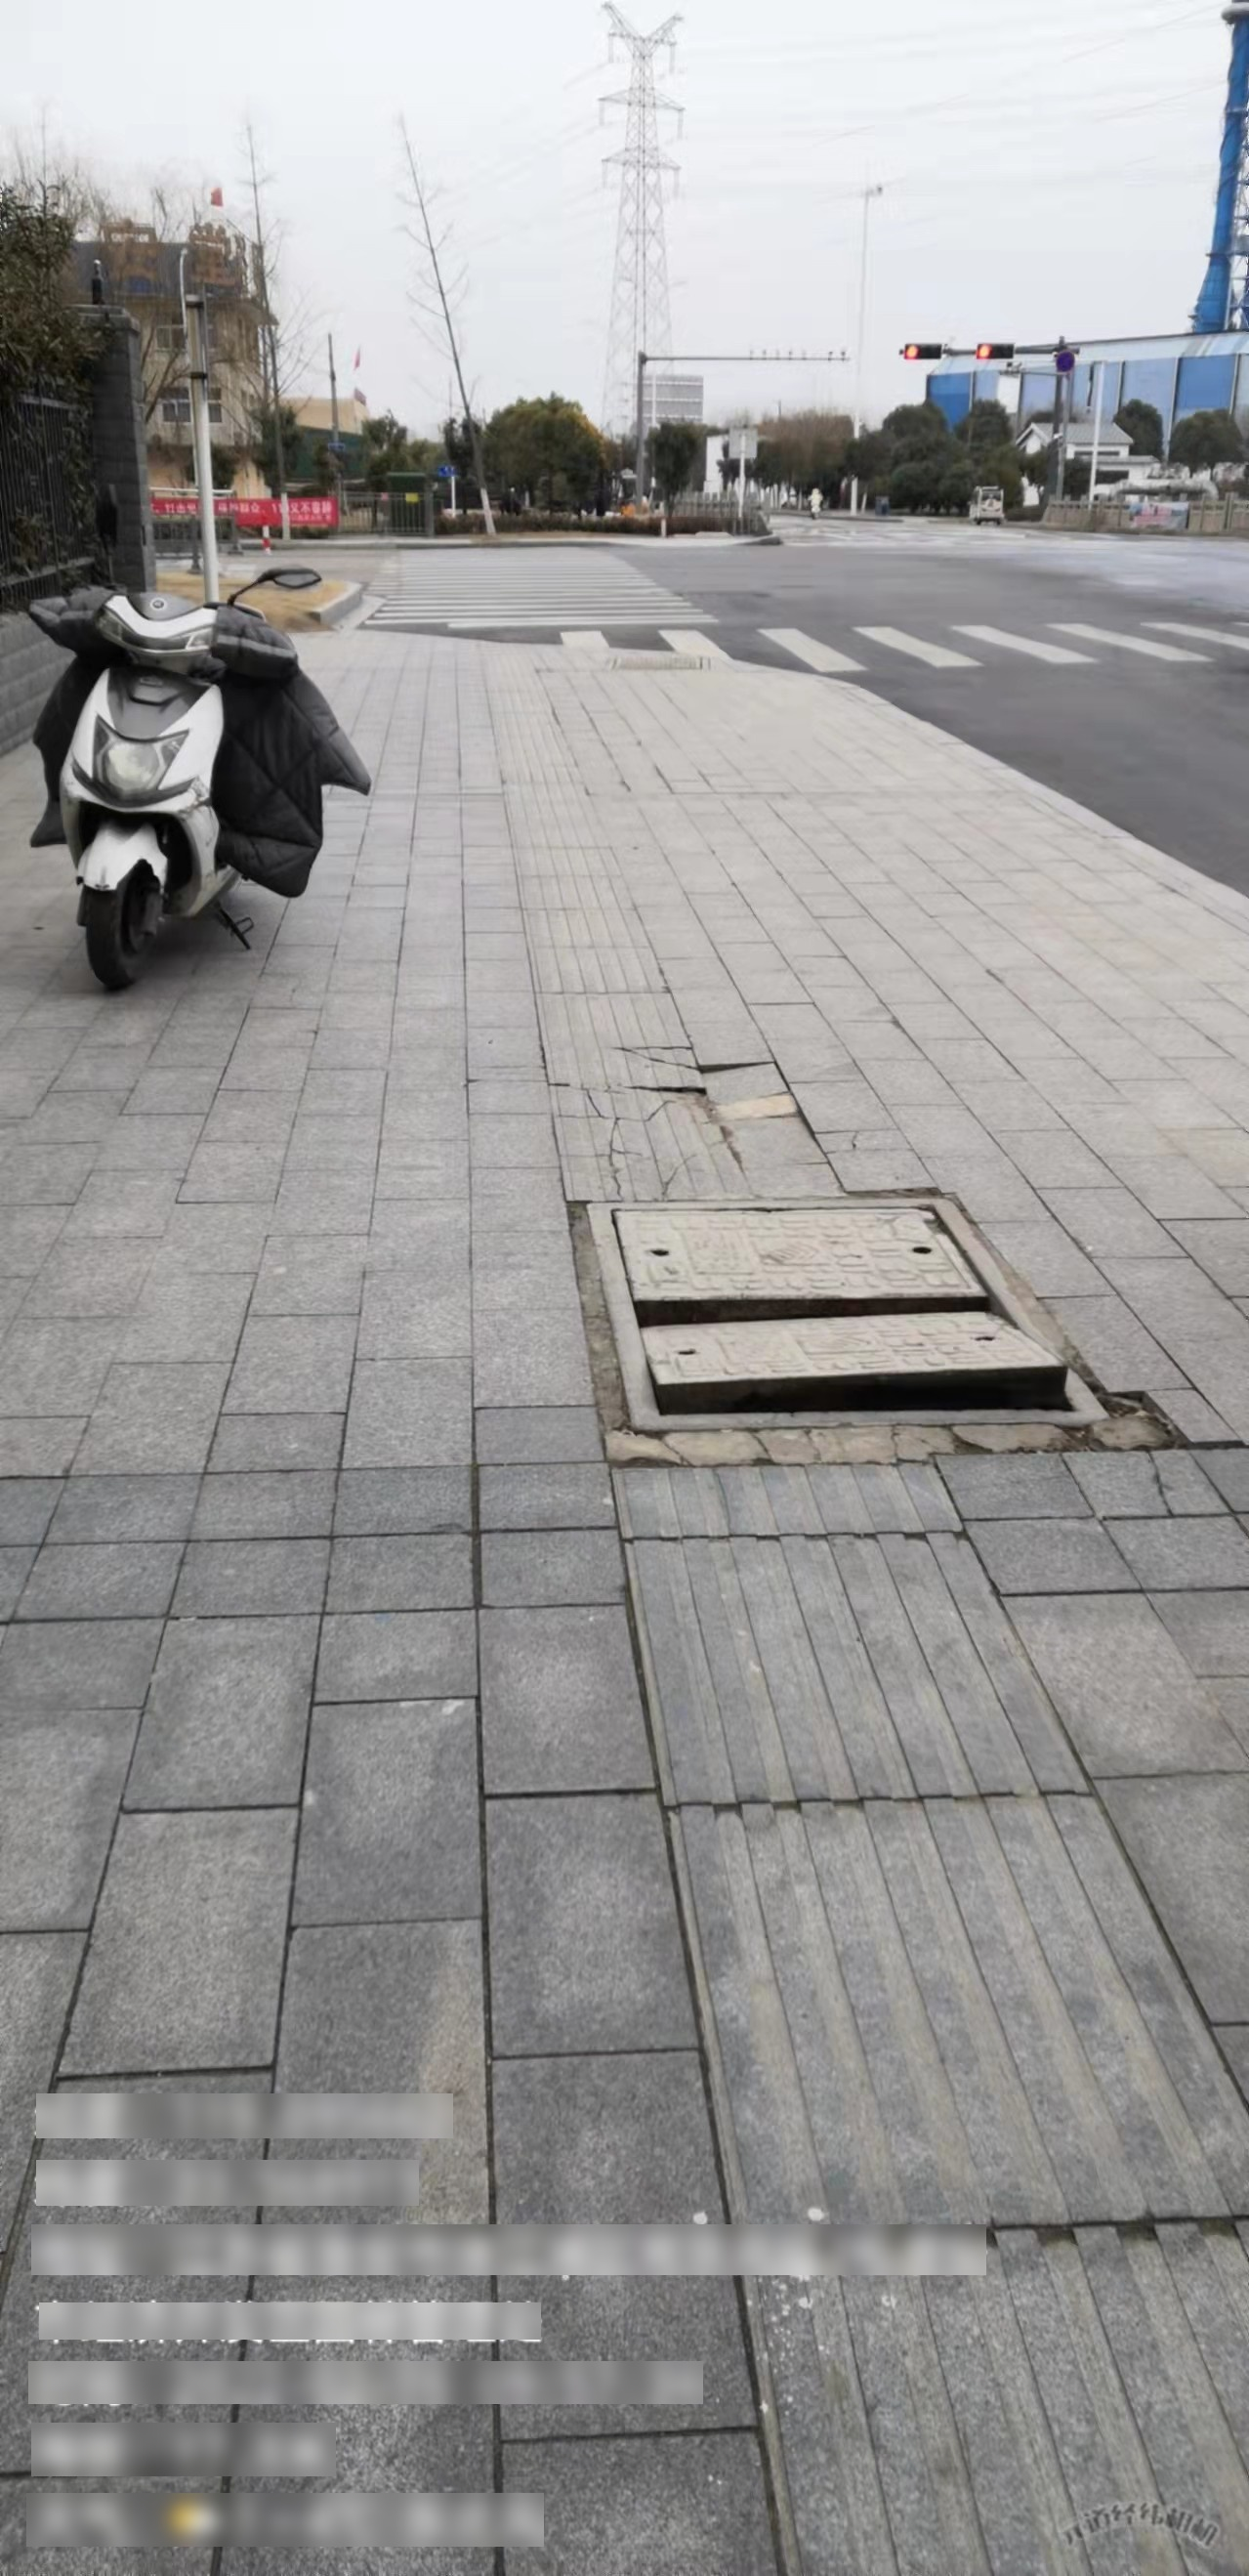uncovered: (581, 1189, 1111, 1446)
